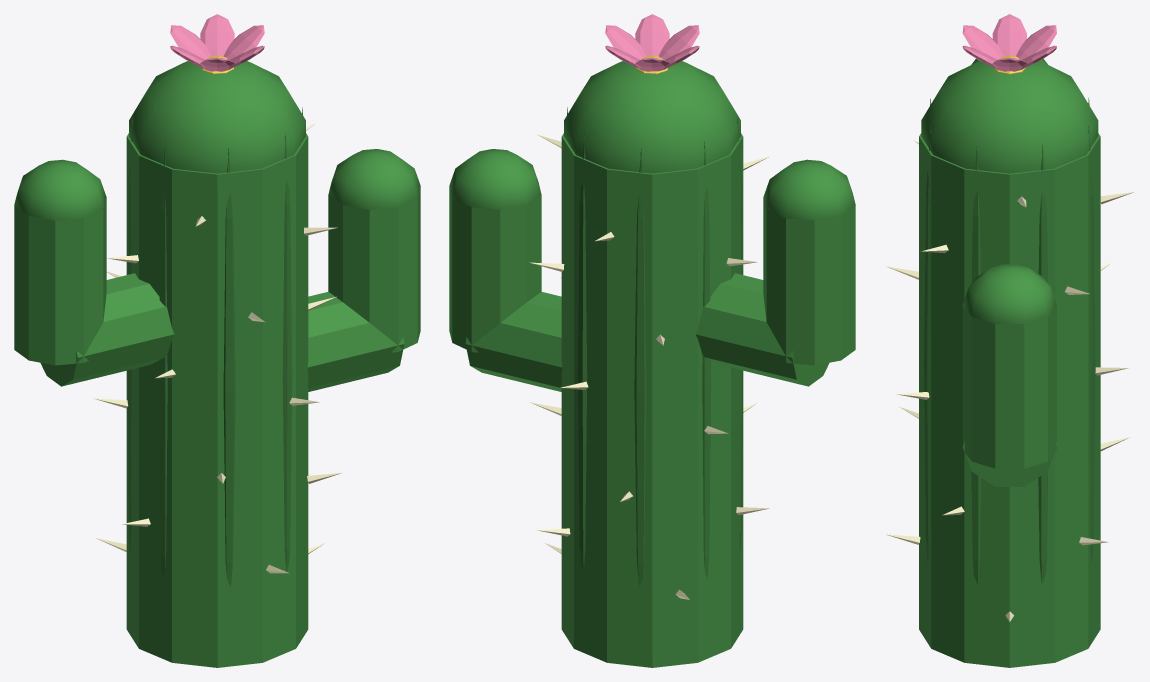
Rendered from Planta_Cactus.fbx.
3 renders of one model, left to right at view 1: azimuth 30°, elevation 25°; view 2: azimuth 150°, elevation 25°; view 3: azimuth 270°, elevation 25°, orthographic.
Parts seen in each view (by area): view 1: Corpo_Cactus; view 2: Corpo_Cactus; view 3: Corpo_Cactus.
Part boxes in pixels (box(x1,y1,x2,y2)): Corpo_Cactus: box(14, 14, 420, 667); Corpo_Cactus: box(449, 14, 855, 667); Corpo_Cactus: box(885, 14, 1134, 667).
Bounding box in the file's own units: 2.49 × 3.61 × 1.38.
1 material, 1 textured.
